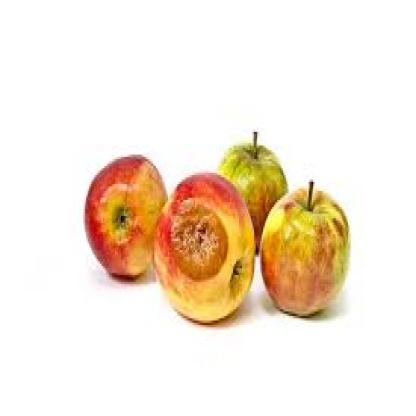damaged_apple: (156, 171, 254, 325), (256, 184, 351, 307), (85, 157, 165, 277), (215, 129, 287, 257)
